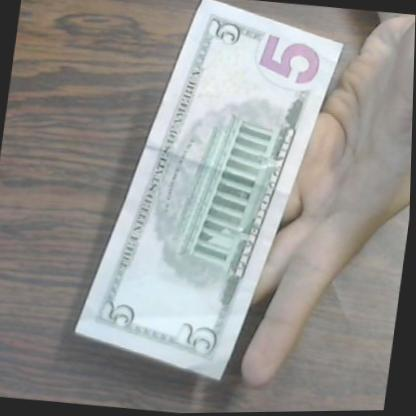dollar_back: (74, 0, 348, 392)
